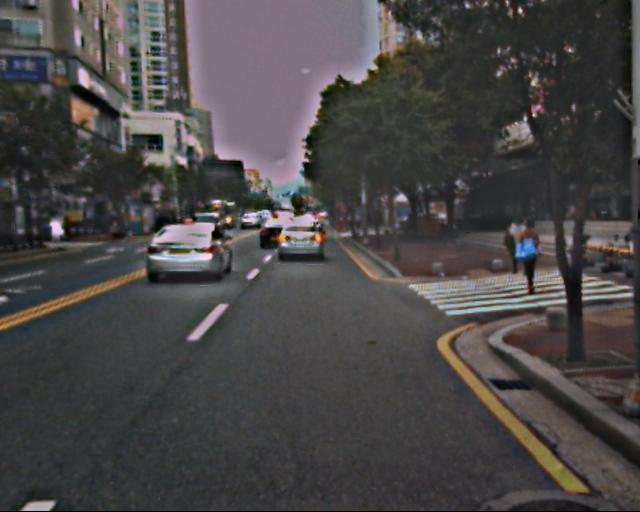person: (514, 215, 548, 297), (503, 217, 527, 275)
